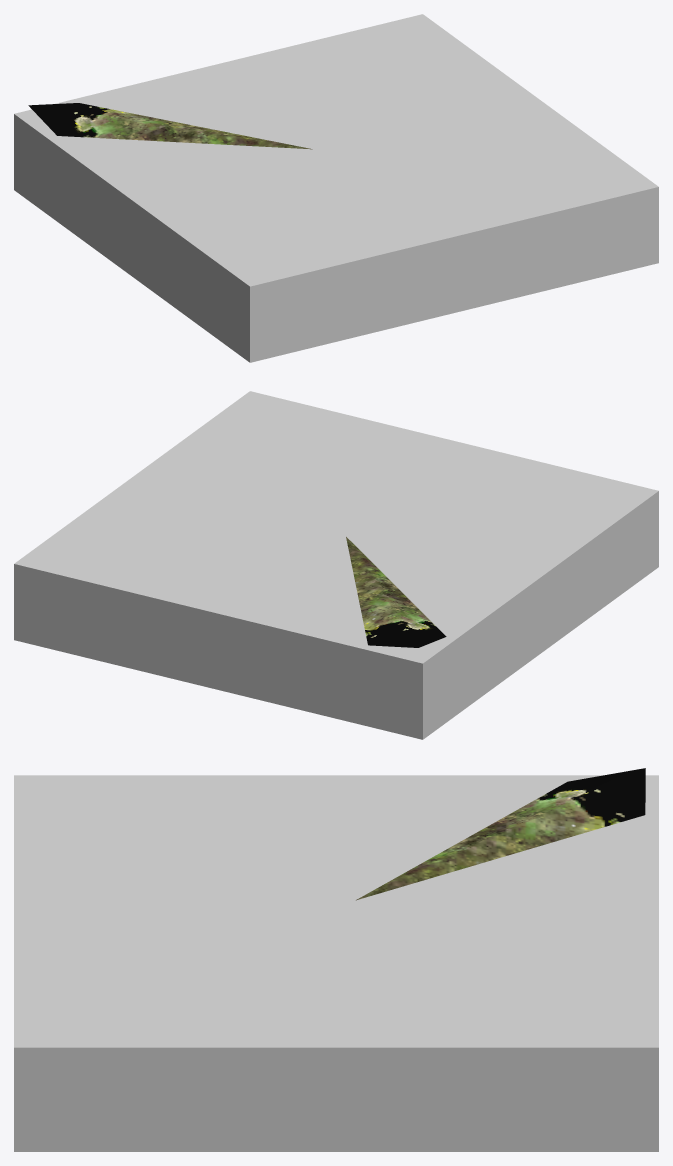
The model's file is grass_field_closetop.dae.
The picture shows the model from 3 angles, top to bottom: view 1: azimuth 30°, elevation 25°; view 2: azimuth 150°, elevation 25°; view 3: azimuth 270°, elevation 25°; orthographic projection. The views are drawn at different scales.
Parts seen in each view (by area): view 1: Untitled, grass_field_large150; view 2: Untitled, grass_field_large150; view 3: Untitled, grass_field_large150.
Boxes of the visible parts, left/top/right/bottom form: Untitled: left=14, top=14, right=658, bottom=362; grass_field_large150: left=28, top=103, right=312, bottom=149; Untitled: left=14, top=391, right=658, bottom=739; grass_field_large150: left=346, top=537, right=446, bottom=647; Untitled: left=14, top=775, right=658, bottom=1151; grass_field_large150: left=356, top=768, right=645, bottom=900.
Size of the model in its own units: 1.96 by 1.96 by 0.3936.
